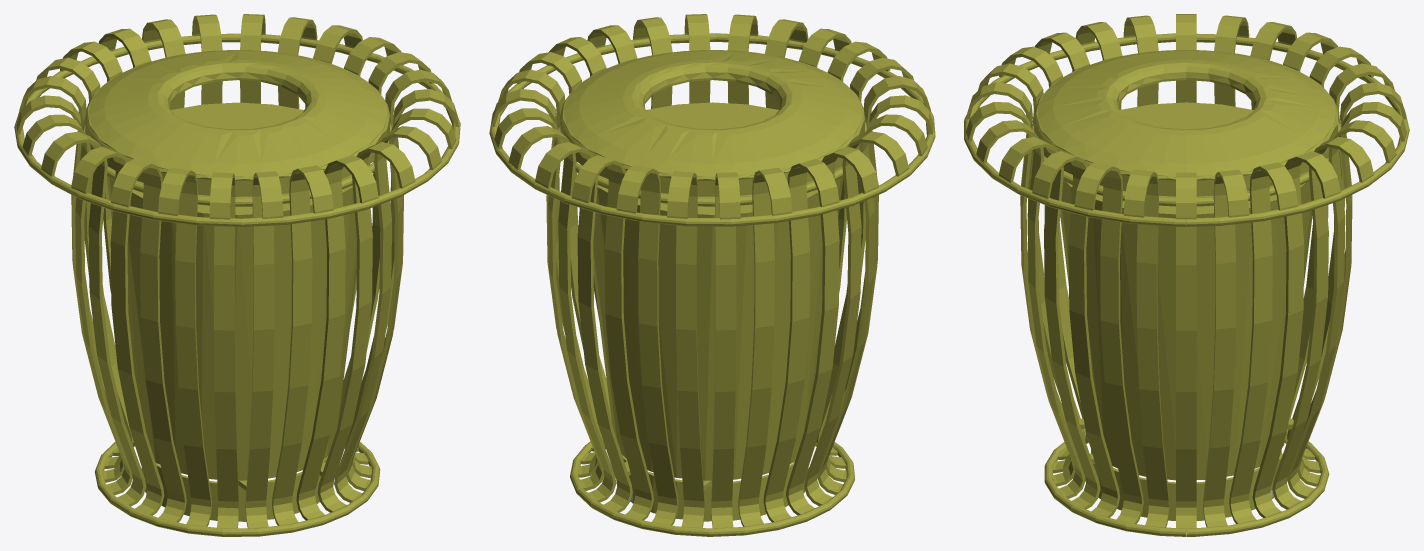
3 renders of one model, left to right at view 1: azimuth 30°, elevation 25°; view 2: azimuth 150°, elevation 25°; view 3: azimuth 270°, elevation 25°, orthographic.
Parts seen in each view (by area): view 1: mesh54.002_mesh54-geometry, mesh16.002_mesh16-geometry, mesh1.047_mesh1-geometry, mesh1.044_mesh1-geometry, mesh1.046_mesh1-geometry, mesh1.043_mesh1-geometry, mesh1.045_mesh1-geometry, mesh1.048_mesh1-geometry, mesh1.042_mesh1-geometry, mesh11.002_mesh11-geometry, mesh1.049_mesh1-geometry, mesh1.041_mesh1-geometry (+20 smaller); view 2: mesh54.002_mesh54-geometry, mesh16.002_mesh16-geometry, mesh1.035_mesh1-geometry, mesh1.038_mesh1-geometry, mesh1.036_mesh1-geometry, mesh1.039_mesh1-geometry, mesh1.037_mesh1-geometry, mesh1.034_mesh1-geometry, mesh1.040_mesh1-geometry, mesh11.002_mesh11-geometry, mesh1.033_mesh1-geometry, mesh1.041_mesh1-geometry (+20 smaller); view 3: mesh54.002_mesh54-geometry, mesh16.002_mesh16-geometry, mesh1.030_mesh1-geometry, mesh1.052_mesh1-geometry, mesh1.053_mesh1-geometry, mesh1.029_mesh1-geometry, mesh1.054_mesh1-geometry, mesh1.051_mesh1-geometry, mesh1.031_mesh1-geometry, mesh11.002_mesh11-geometry, mesh1.050_mesh1-geometry, mesh1.032_mesh1-geometry (+20 smaller).
Part boxes in pixels (x1,y1,x2,y2): mesh54.002_mesh54-geometry: [107, 102, 370, 480]; mesh16.002_mesh16-geometry: [85, 50, 389, 196]; mesh1.047_mesh1-geometry: [272, 165, 333, 525]; mesh1.044_mesh1-geometry: [158, 167, 211, 526]; mesh1.046_mesh1-geometry: [245, 171, 283, 528]; mesh1.043_mesh1-geometry: [111, 159, 186, 522]; mesh1.045_mesh1-geometry: [209, 172, 238, 528]; mesh1.048_mesh1-geometry: [296, 155, 378, 520]; mesh1.042_mesh1-geometry: [71, 146, 164, 515]; mesh11.002_mesh11-geometry: [14, 33, 460, 226]; mesh1.049_mesh1-geometry: [317, 142, 415, 512]; mesh1.041_mesh1-geometry: [41, 131, 145, 506]; mesh54.002_mesh54-geometry: [580, 102, 843, 480]; mesh16.002_mesh16-geometry: [560, 50, 864, 196]; mesh1.035_mesh1-geometry: [616, 165, 678, 525]; mesh1.038_mesh1-geometry: [738, 167, 792, 526]; mesh1.036_mesh1-geometry: [667, 171, 704, 527]; mesh1.039_mesh1-geometry: [763, 159, 839, 522]; mesh1.037_mesh1-geometry: [711, 172, 740, 528]; mesh1.034_mesh1-geometry: [571, 155, 653, 520]; mesh1.040_mesh1-geometry: [786, 146, 878, 515]; mesh11.002_mesh11-geometry: [489, 33, 935, 226]; mesh1.033_mesh1-geometry: [535, 142, 632, 512]; mesh1.041_mesh1-geometry: [804, 131, 908, 505]; mesh54.002_mesh54-geometry: [1060, 102, 1312, 480]; mesh16.002_mesh16-geometry: [1034, 49, 1337, 196]; mesh1.030_mesh1-geometry: [1229, 162, 1298, 523]; mesh1.052_mesh1-geometry: [1074, 162, 1143, 523]; mesh1.053_mesh1-geometry: [1123, 169, 1169, 527]; mesh1.029_mesh1-geometry: [1203, 169, 1249, 527]; mesh1.054_mesh1-geometry: [1176, 172, 1196, 531]; mesh1.051_mesh1-geometry: [1032, 151, 1120, 517]; mesh1.031_mesh1-geometry: [1252, 151, 1340, 517]; mesh11.002_mesh11-geometry: [964, 33, 1409, 226]; mesh1.050_mesh1-geometry: [999, 136, 1100, 509]; mesh1.032_mesh1-geometry: [1272, 136, 1373, 509].
Size of the model in its own units: 0.5872 by 0.5582 by 0.5861.
